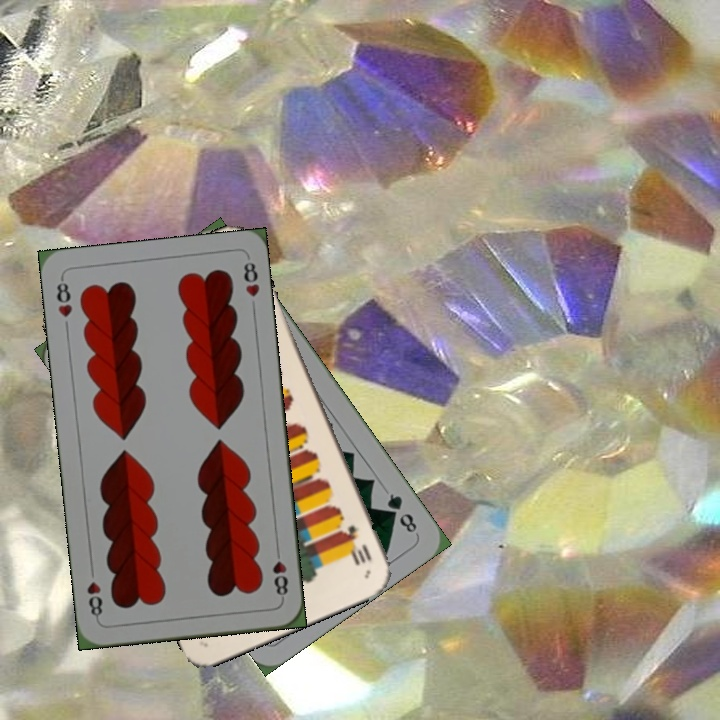E10: (341, 521, 374, 566)
G8: (383, 489, 420, 536)
H8: (268, 543, 291, 602), (52, 274, 75, 320)
